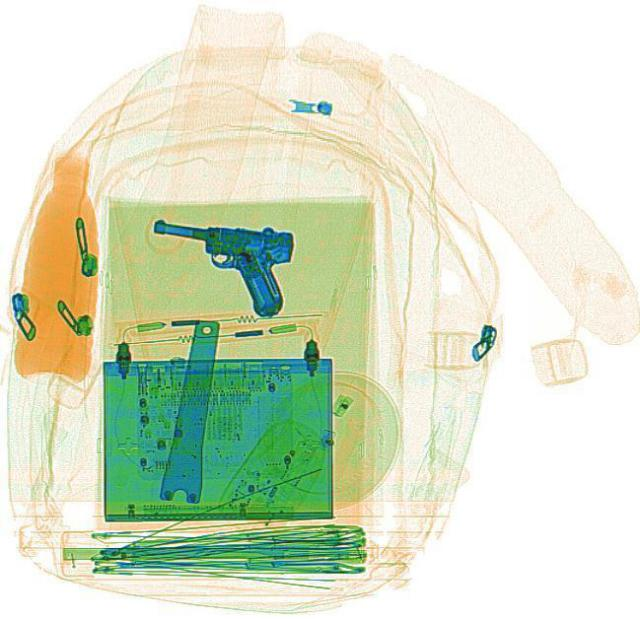Gun: (140, 216, 296, 317)
